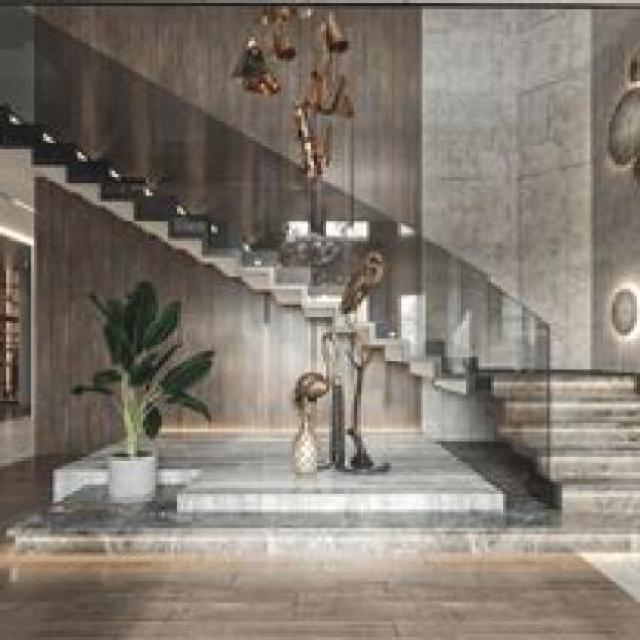stair: (484, 300, 638, 554)
